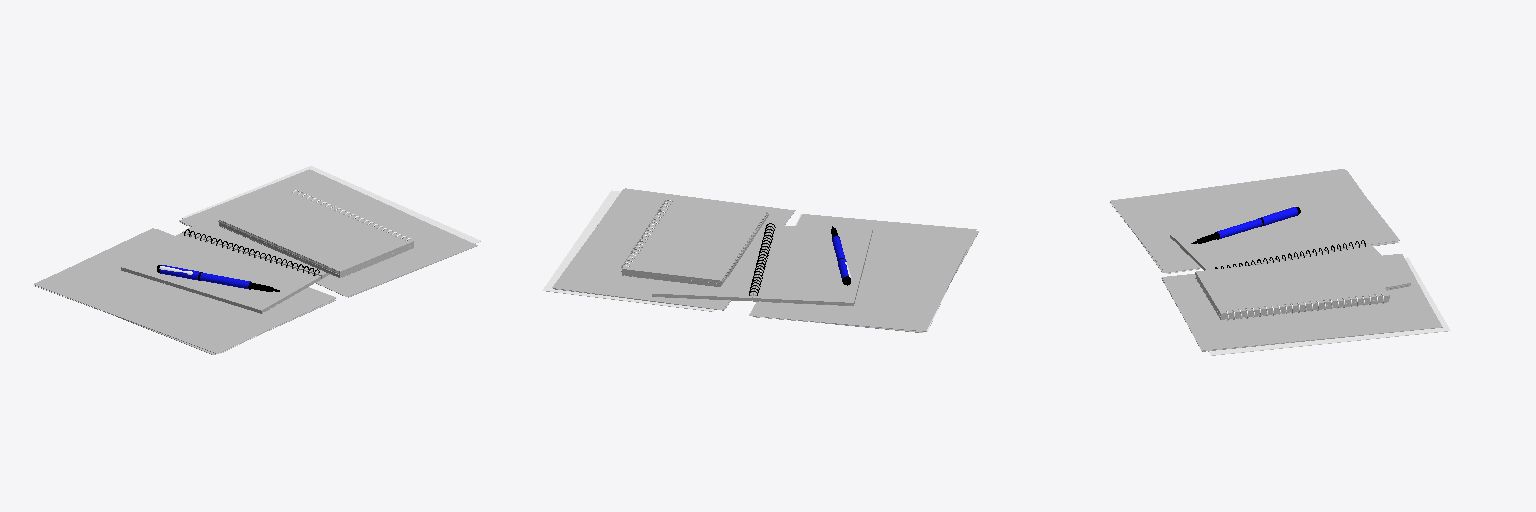
File: paper.obj
The picture shows the model from 3 angles: view 1: azimuth 30°, elevation 25°; view 2: azimuth 150°, elevation 25°; view 3: azimuth 270°, elevation 25°; orthographic projection.
Visible parts, largest first — view 1: arch20_014; view 2: arch20_014; view 3: arch20_014.
Part boxes in pixels (x1,y1,x2,y2): arch20_014: (33,166,480,354); arch20_014: (542,188,978,332); arch20_014: (1109,169,1450,355).
Size of the model in its own units: 1.32 by 0.0442 by 1.02.